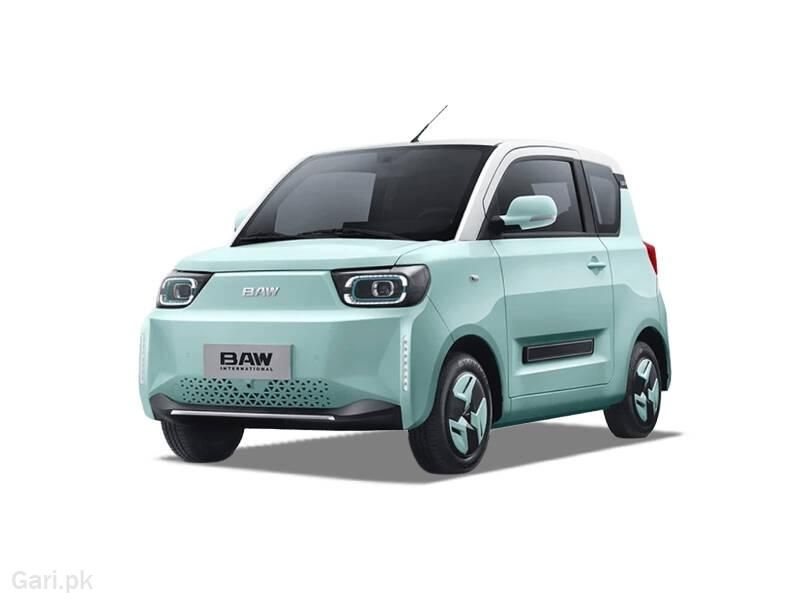Hatchback: (120, 97, 717, 527)
